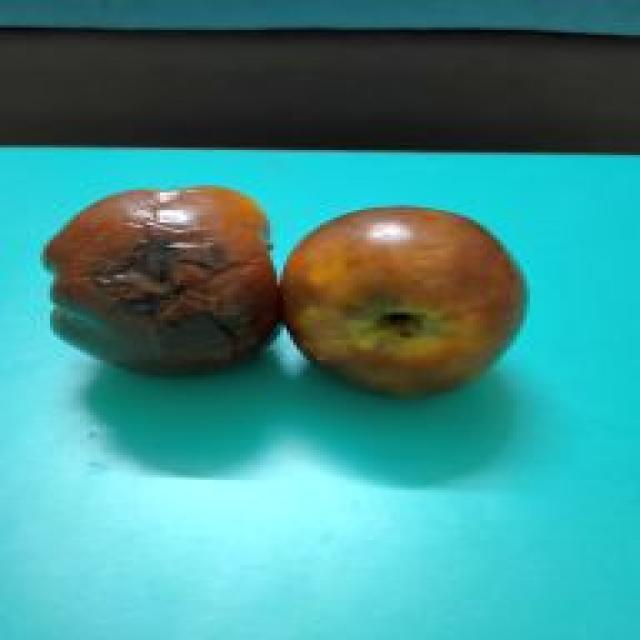Bad_Apple: (45, 186, 278, 372)
